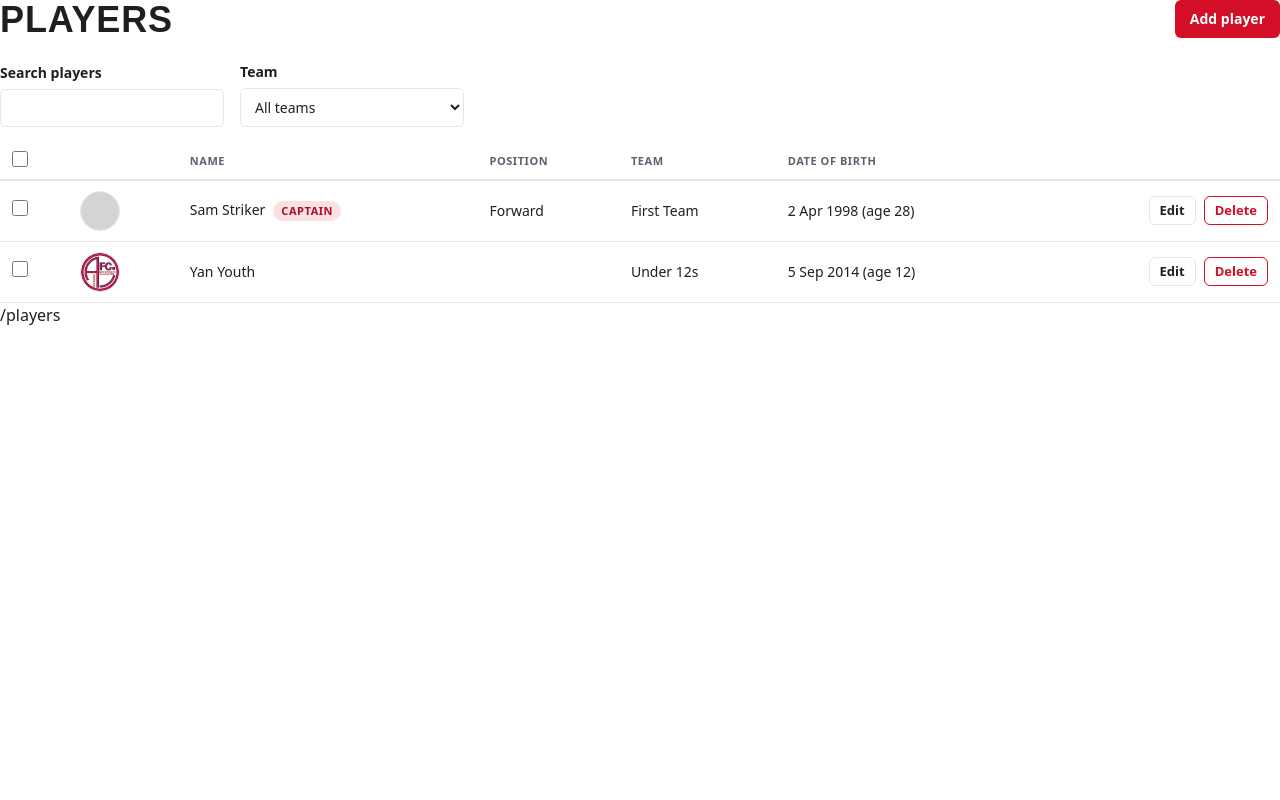
Test: PlayersPage › deletes several selected players at once
The image size is (1280, 800).
Click the checkbox in the row of "Sam Striker" at {"x": 20, "y": 208}, box [12, 200, 28, 216]
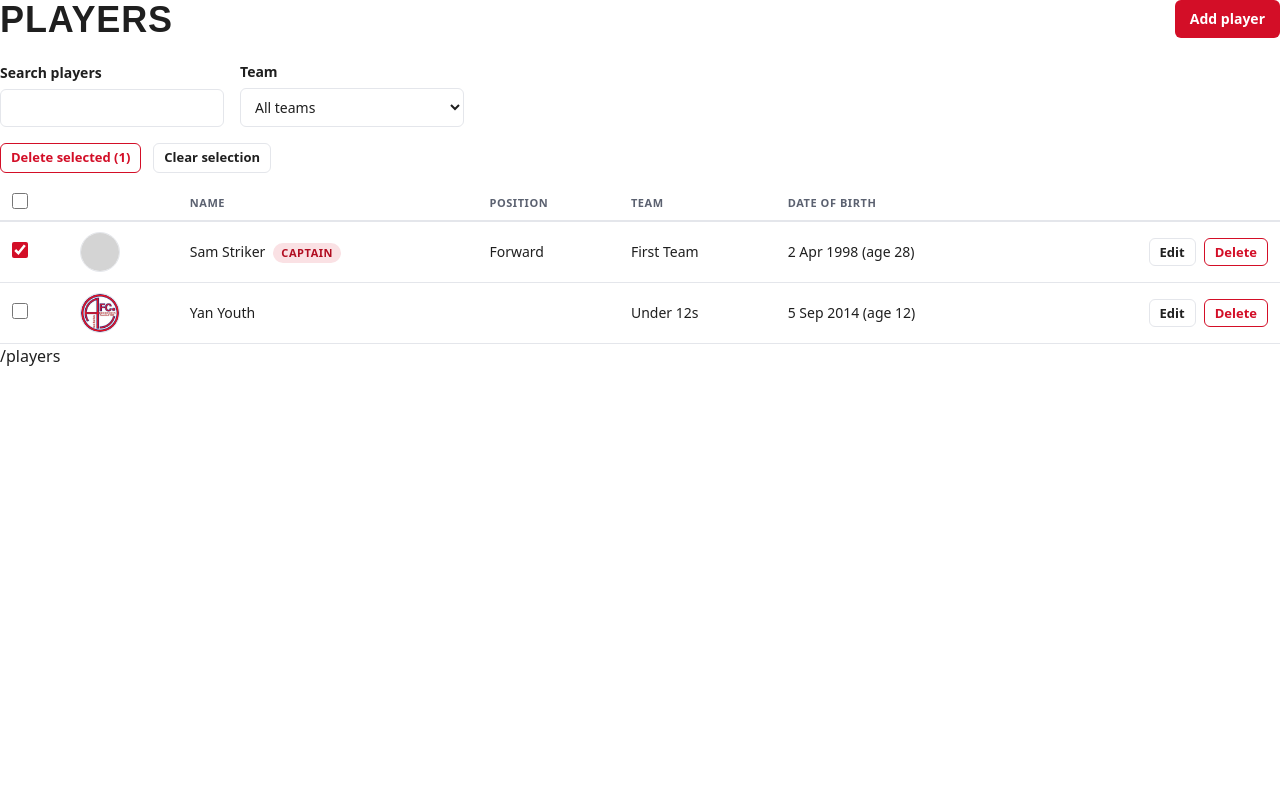
Click the checkbox in the row of "Yan Youth" at {"x": 20, "y": 311}, box [12, 303, 28, 319]
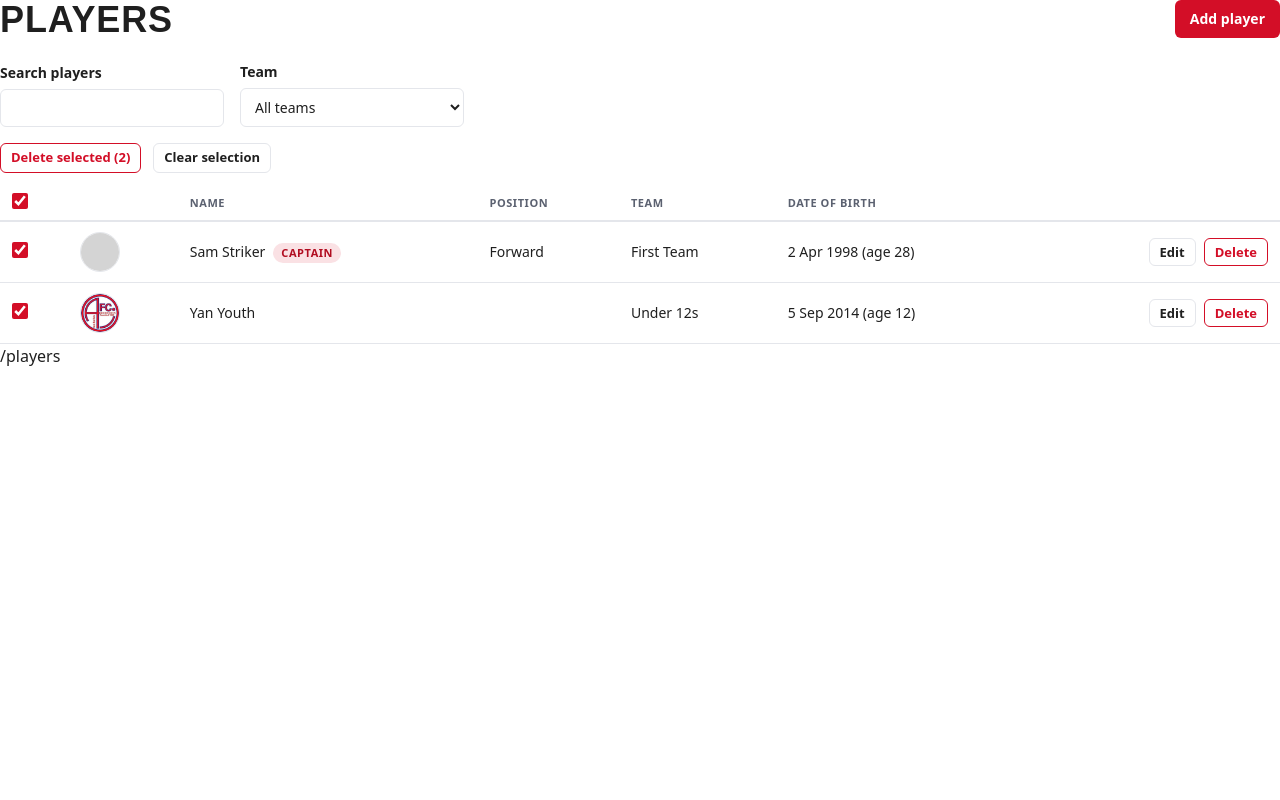
Click the button "Delete selected (2)" at {"x": 71, "y": 158}, box [0, 143, 141, 172]
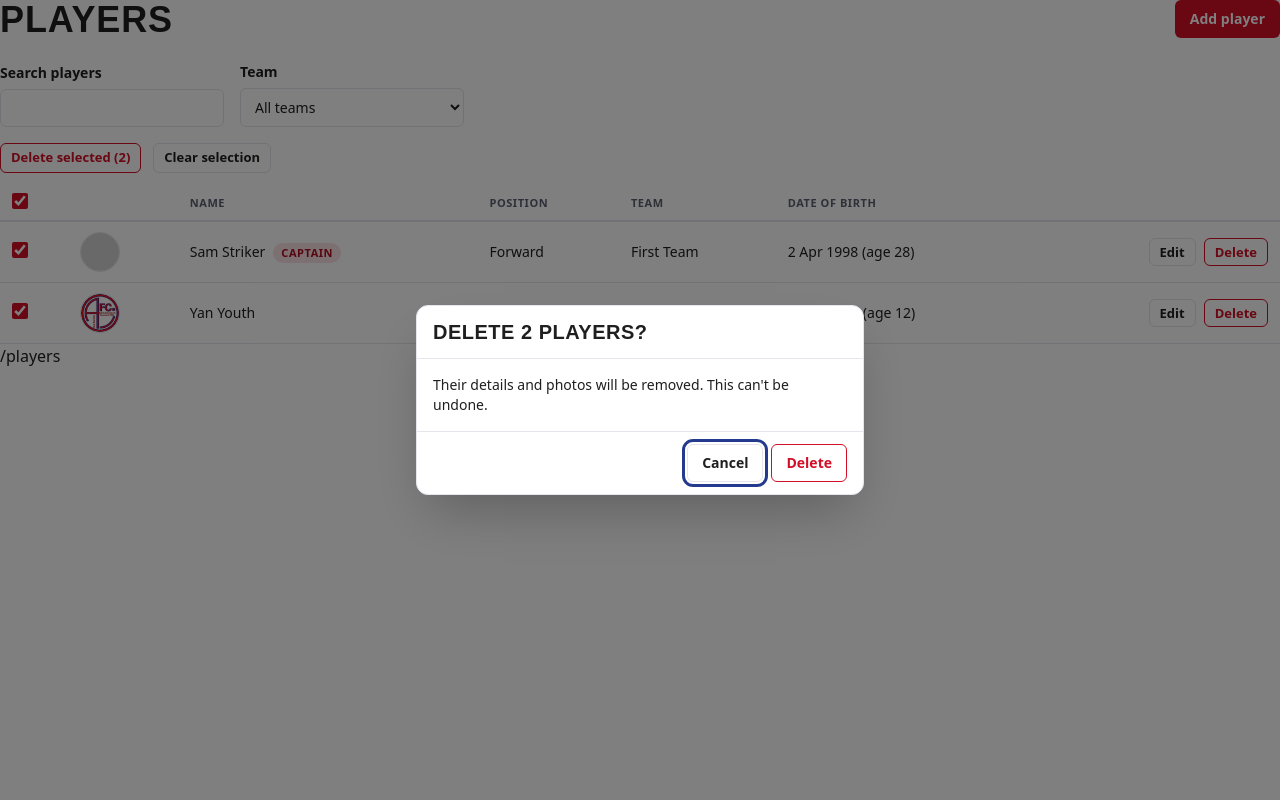
Click the button "Delete" at {"x": 809, "y": 463}, box [772, 444, 847, 482]
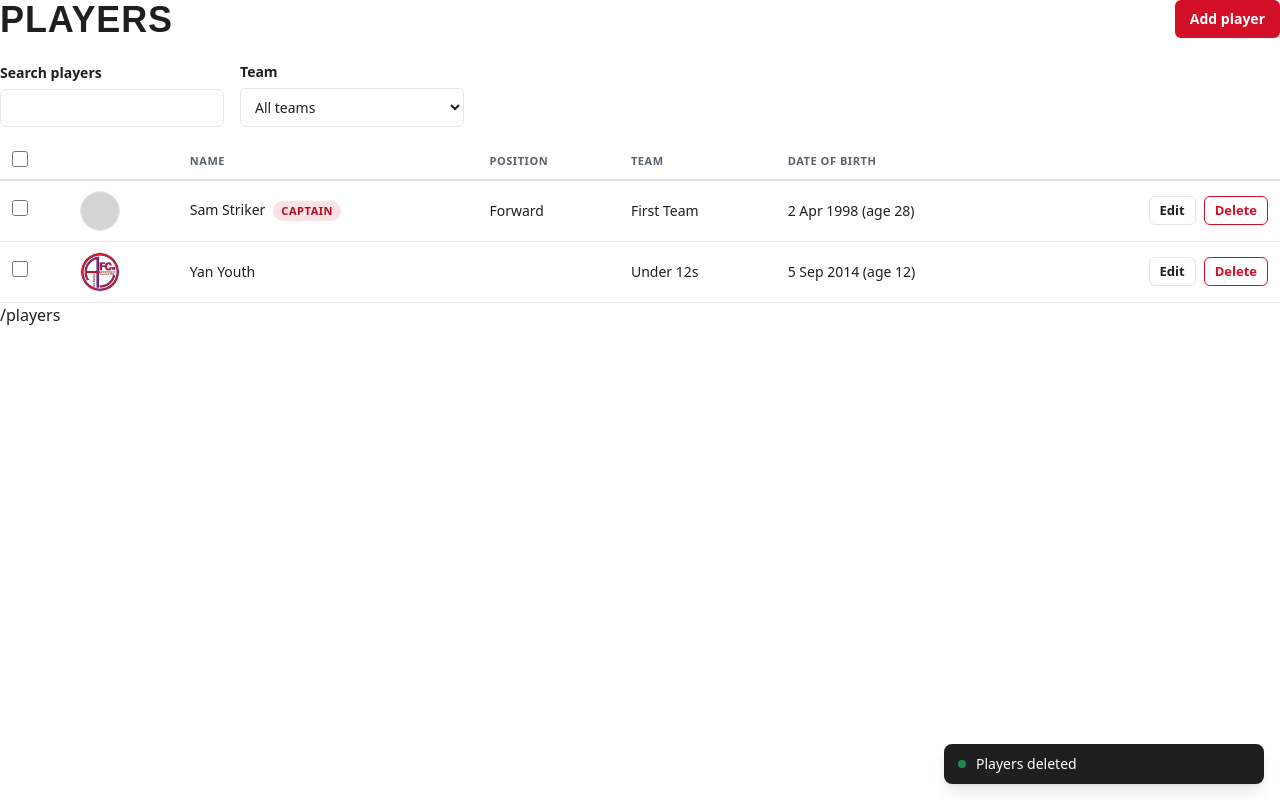
Check: the button "Players deleted" is shown, box [944, 744, 1264, 784]
Check: the button "Delete selected" is gone
